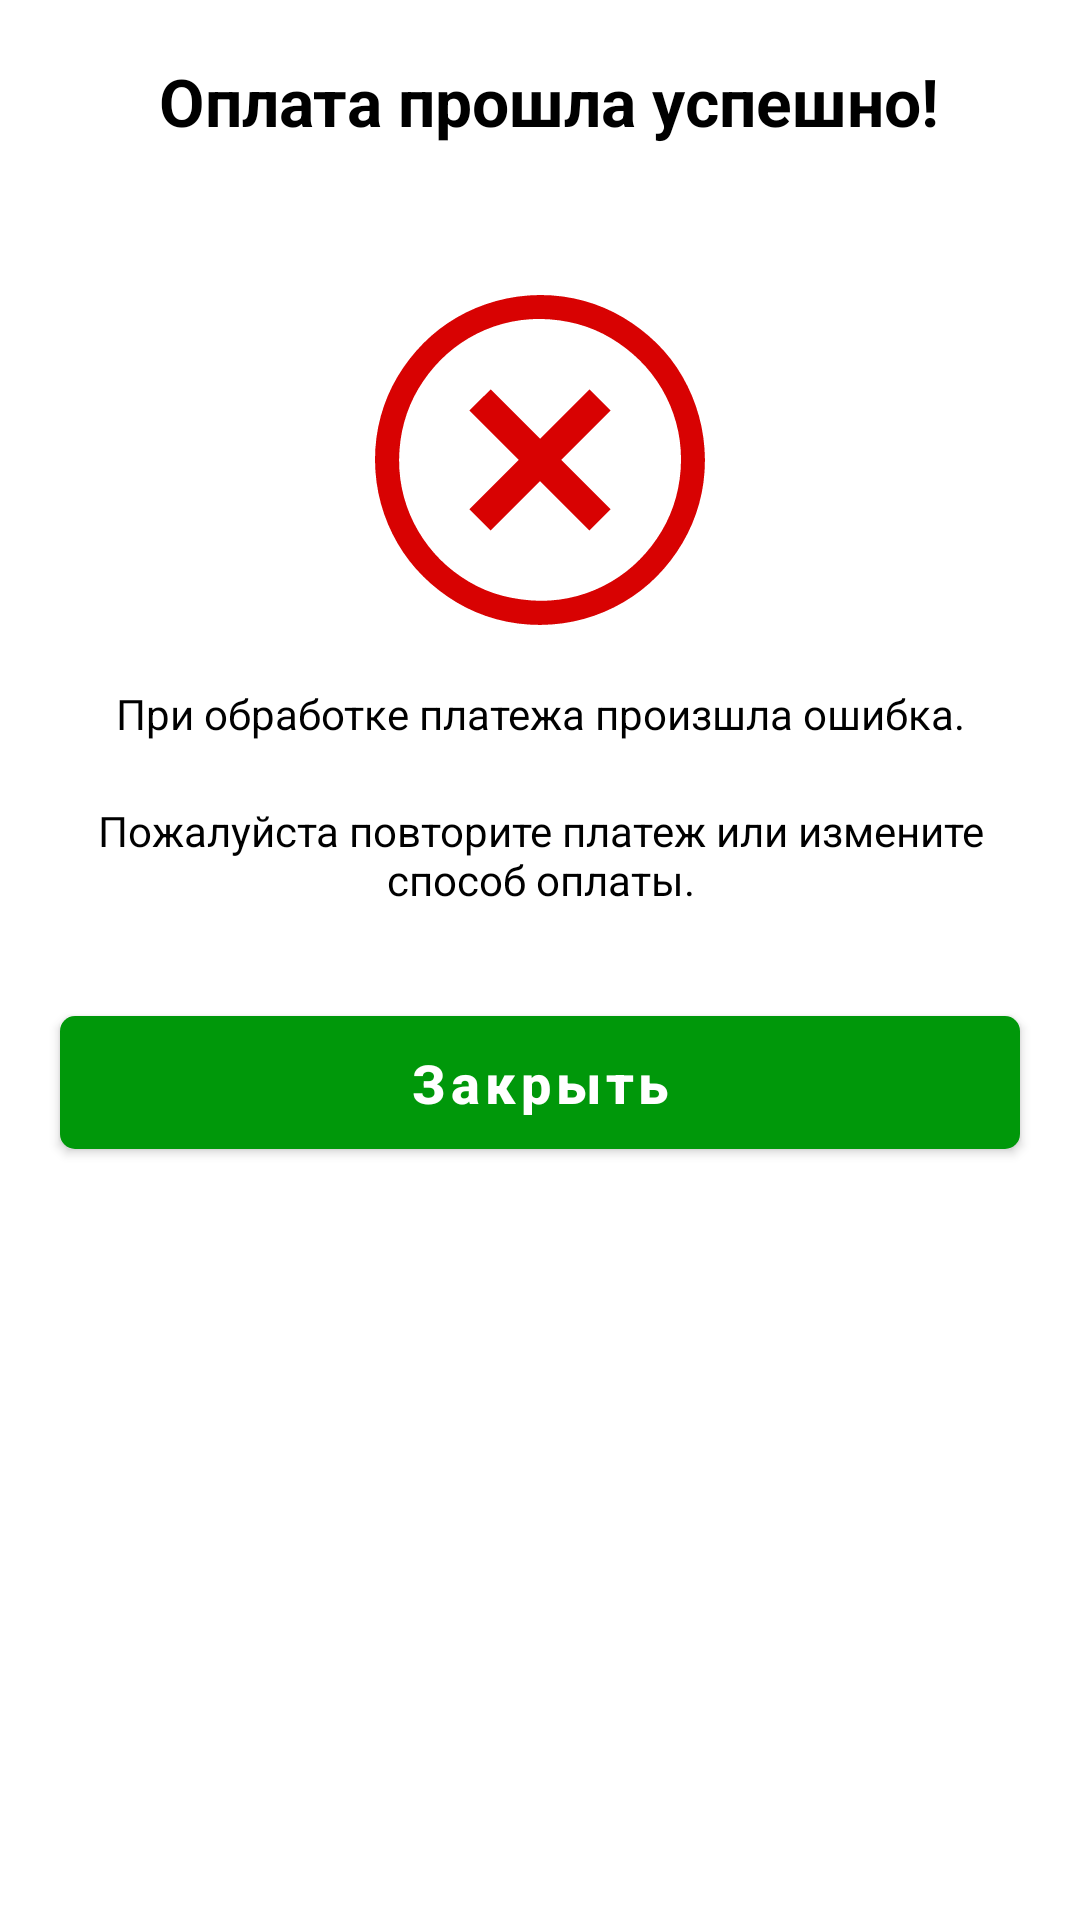

Where to tap for icons on this 1080 x 1920 app screen, as (x,y):
error: (540,460)
